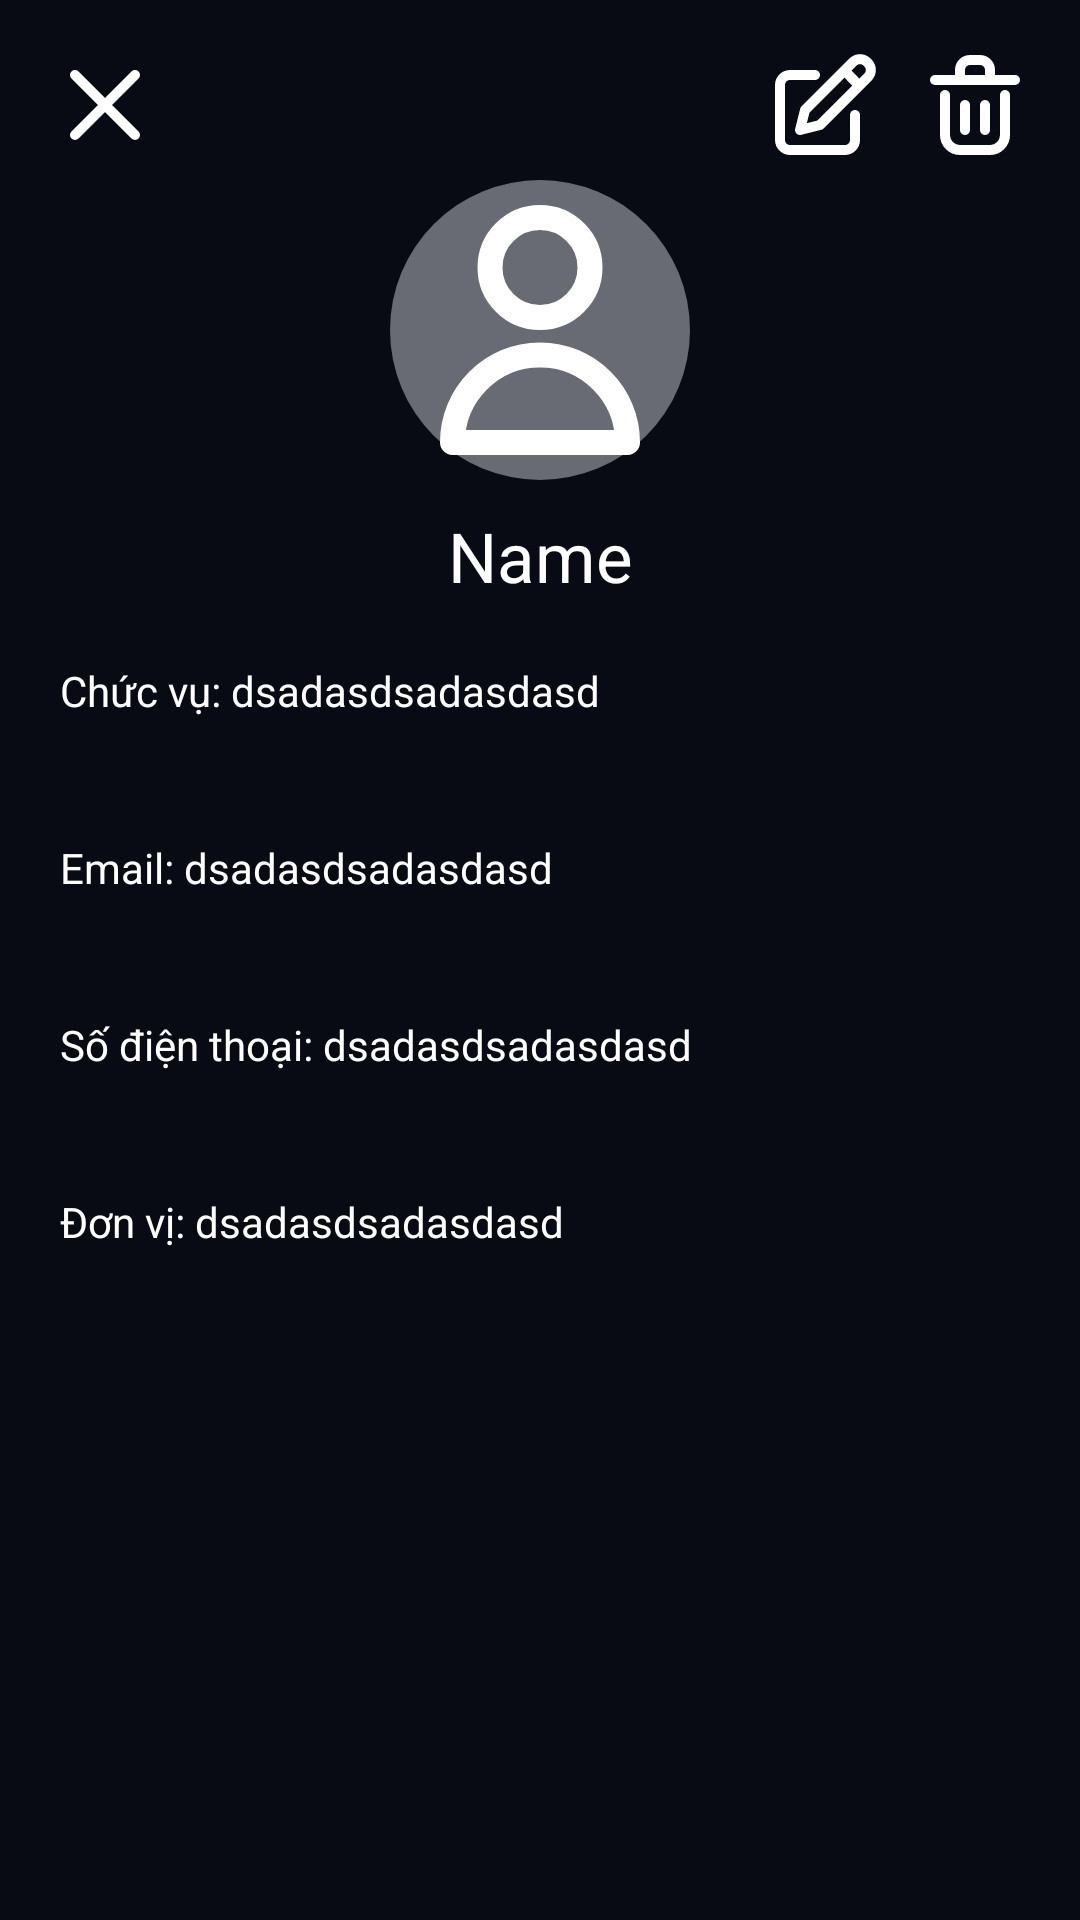

Icon bounding boxes for this 1080w x 1920h phone screenshot, format [left=x1, top=y1, right=x2, bottom=y2]:
close: [left=70, top=70, right=140, bottom=140]
delete: [left=930, top=55, right=1020, bottom=155]
edit: [left=775, top=54, right=876, bottom=155]
user: [left=390, top=180, right=690, bottom=480]
